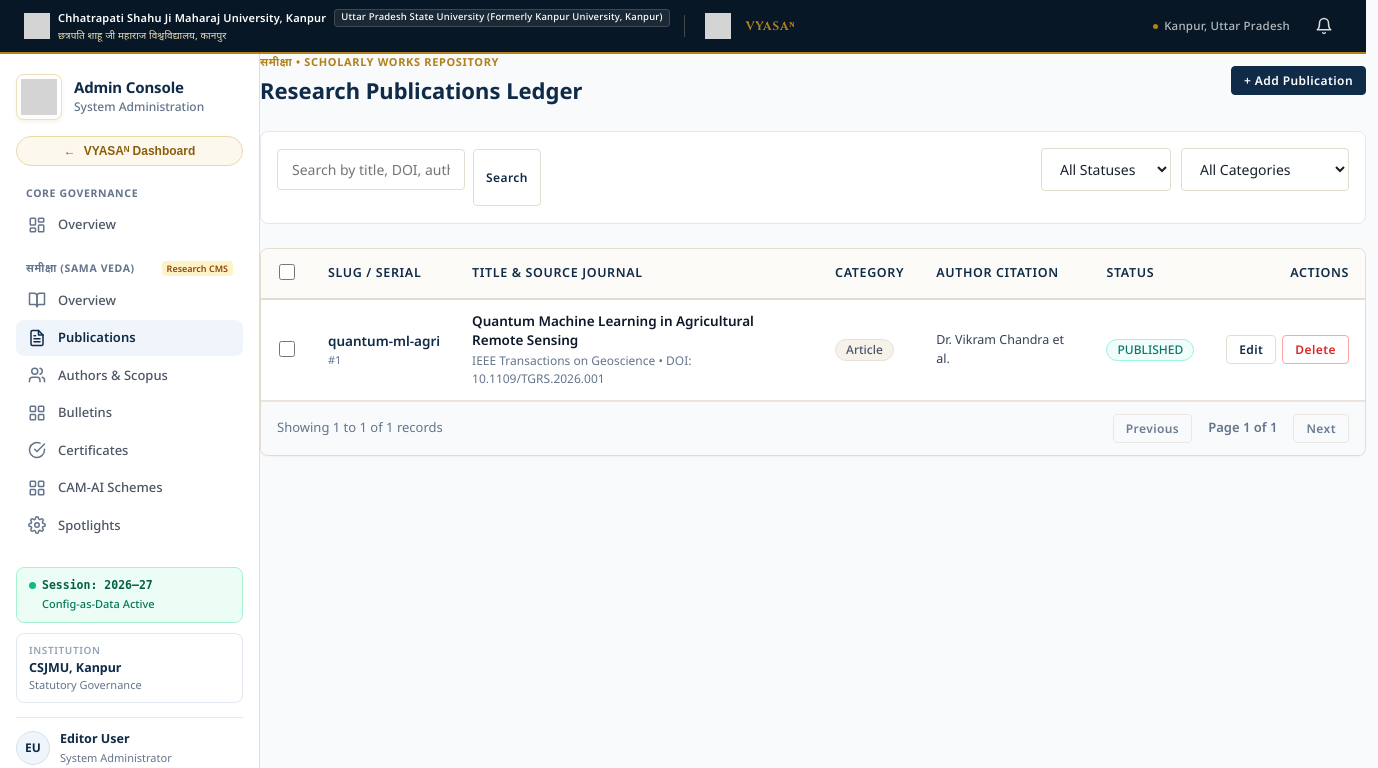
Scenario: Sama Veda CMS Admin Pages Suite › PublicationsPage › restricts bulk delete action for non-super-admin editors
Check: the text "Quantum Machine Learning in Agricultural Remote Sensing" is shown, box [472,312,803,350]
Note: Select row 1
Click the checkbox named "Select publication quantum-ml-agri" at (287, 348), box [279,340,295,356]
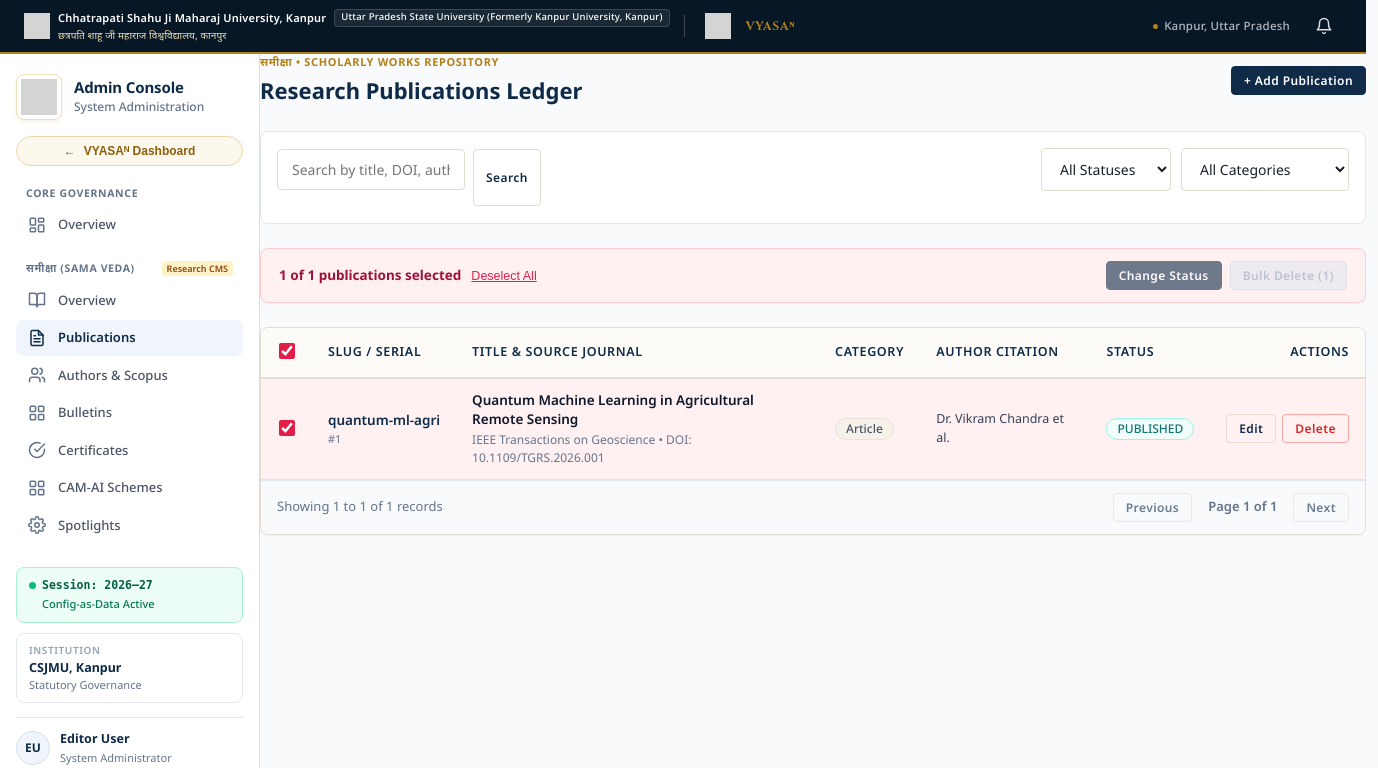
Check: the element with test id "bulk-actions-banner" is shown, box [260,248,1366,303]
Check: the button "Bulk Delete (1)" is disabled, box [1230,261,1347,290]
